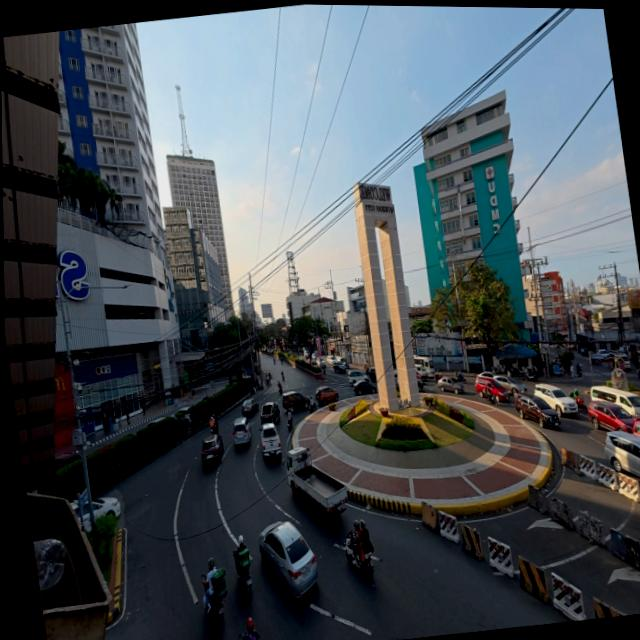car: (258, 521, 317, 597), (604, 432, 639, 478), (513, 394, 559, 428), (587, 401, 634, 433), (534, 384, 577, 417), (475, 377, 509, 402), (201, 434, 224, 467), (260, 423, 280, 460), (493, 375, 526, 394), (91, 497, 120, 518), (281, 392, 309, 412), (232, 417, 250, 446), (437, 376, 463, 394), (54, 452, 79, 470), (315, 387, 338, 406), (173, 407, 191, 427), (347, 369, 368, 386), (353, 380, 375, 395), (241, 399, 257, 417), (145, 416, 165, 427), (332, 360, 346, 374), (414, 365, 427, 380), (367, 366, 377, 383), (415, 374, 423, 392), (477, 371, 494, 378), (632, 420, 639, 435), (596, 350, 609, 358), (325, 356, 334, 365), (316, 358, 324, 367), (310, 353, 316, 364)
motorcycle: (343, 531, 373, 576), (232, 549, 251, 594), (206, 595, 223, 624), (237, 567, 251, 594), (485, 388, 496, 405), (573, 395, 585, 410), (522, 368, 535, 381), (455, 372, 466, 382), (209, 421, 217, 434), (286, 417, 292, 431), (309, 403, 316, 413), (576, 365, 581, 378), (277, 383, 282, 394), (280, 372, 284, 381)
trucks: (286, 447, 346, 520)
vans: (590, 386, 639, 418), (413, 356, 433, 376), (614, 354, 629, 370)
